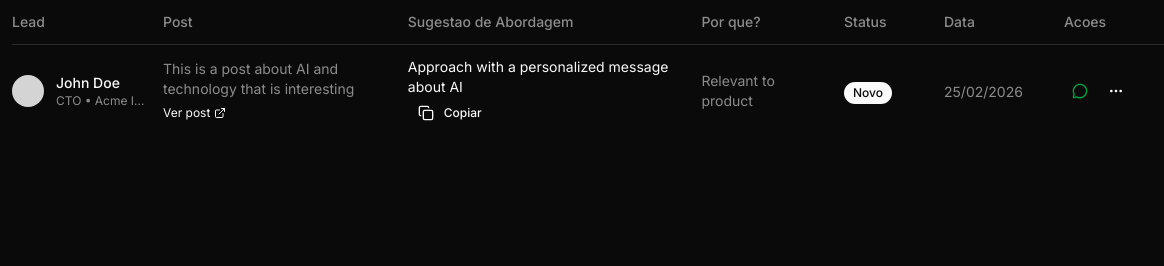
Test case: InsightsTable › should show 'Marcar como Usado' in dropdown for new insights
The width and height of the screenshot is (1164, 266).
Click the button named "Acoes do insight": (1116, 91) [1100,75,1132,107]
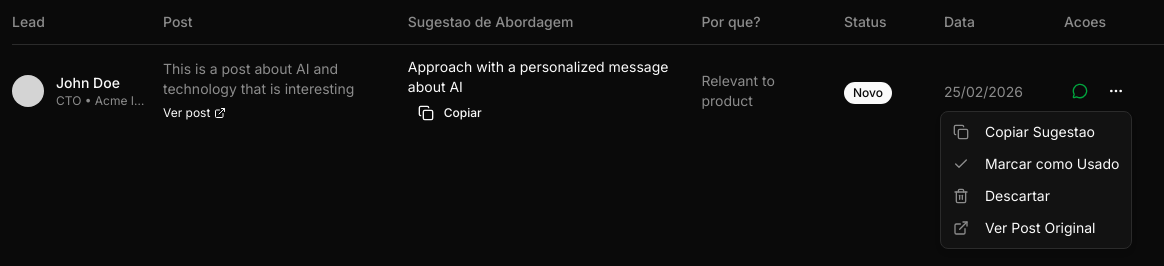
Result: the menu item "Marcar como Usado" is shown at [953,155,1119,172]
